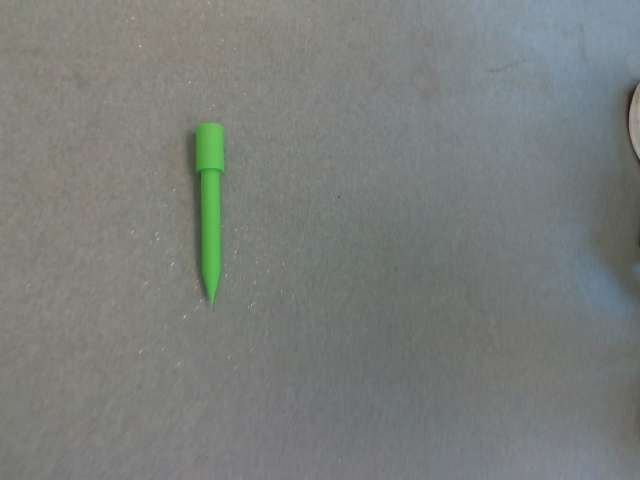Probe: (189, 116, 230, 313)
